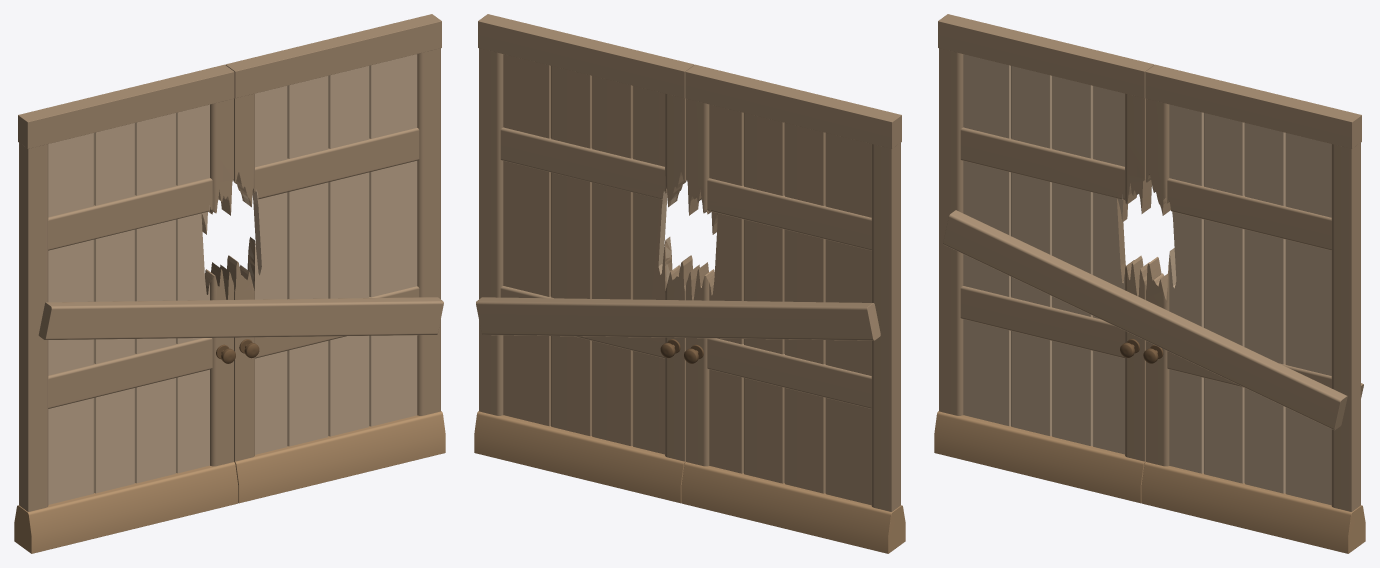
Rendered from SM_Door_Double_Breakable_01_State-1.fbx.
3 views of the same model, side by side, from view 1: azimuth 30°, elevation 25°; view 2: azimuth 150°, elevation 25°; view 3: azimuth 330°, elevation 25° (orthographic).
Visible parts, largest first — view 1: SM_Door_R.005, SM_Door_R.004, SM_Door_R.014, Cylinder.003; view 2: SM_Door_R.005, SM_Door_R.004, SM_Door_R.014, Cylinder.003; view 3: SM_Door_R.004, SM_Door_R.005, SM_Door_R.014, Cylinder.003.
Part boxes in pixels (box(x1,y1,x2,y2)): SM_Door_R.005: box(14, 64, 238, 553); SM_Door_R.004: box(225, 14, 445, 503); SM_Door_R.014: box(38, 297, 443, 339); Cylinder.003: box(216, 339, 259, 363); SM_Door_R.005: box(681, 64, 905, 553); SM_Door_R.004: box(474, 14, 694, 503); SM_Door_R.014: box(476, 297, 880, 340); Cylinder.003: box(660, 339, 703, 363); SM_Door_R.004: box(1141, 64, 1365, 553); SM_Door_R.005: box(934, 14, 1154, 503); SM_Door_R.014: box(943, 210, 1363, 430); Cylinder.003: box(1120, 339, 1163, 363).
Bounding box in the file's own units: 301 × 298 × 31.37.
